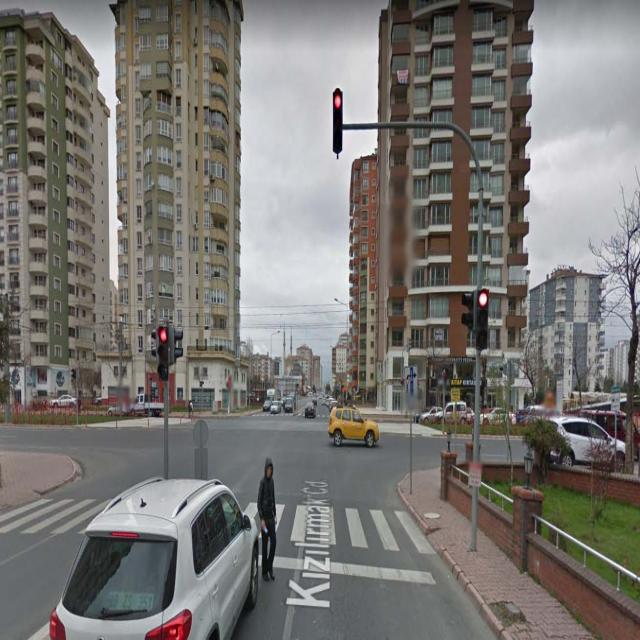kirmizi: (156, 322, 168, 377), (332, 89, 342, 152), (478, 292, 488, 346)
